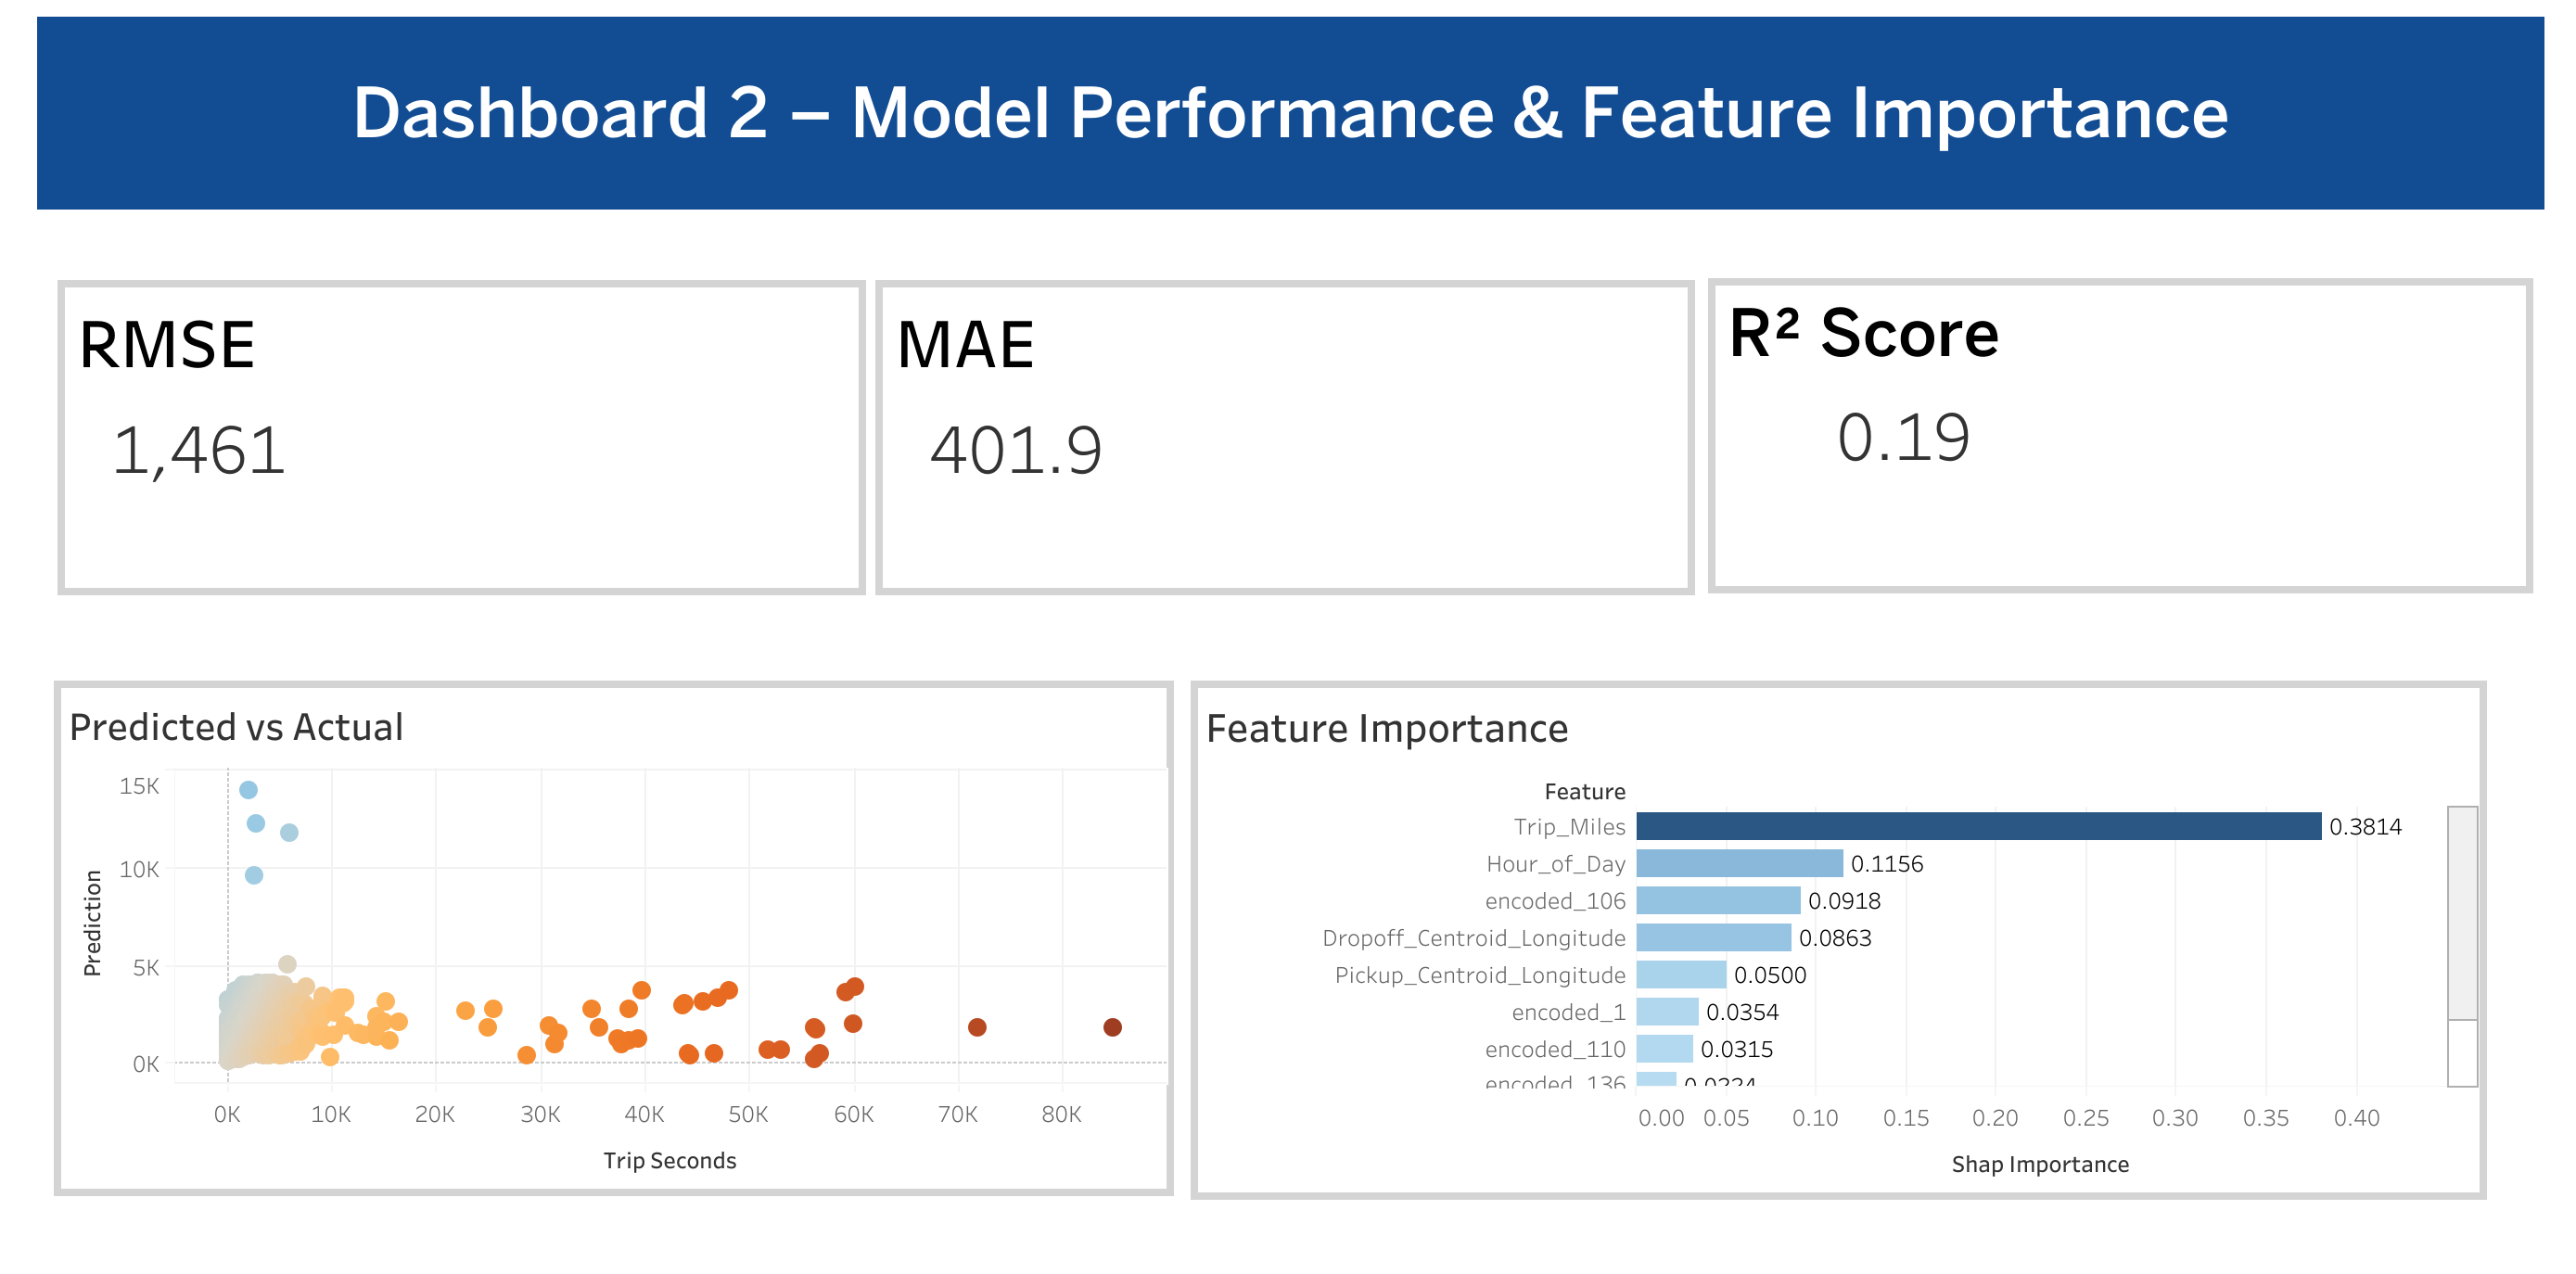

Layout of this report page (visuals, bound fields, positions):
{"tool":"tableau","page":{"name":"Dashboard 2","canvas":[1000,1000],"units":"permille","ordinal":1},"visuals":[{"type":"text","box":[14.7,12.4,972.3,152.2]},{"type":"text","box":[665.6,223.1,314.1,66.2]},{"type":"text","box":[25.2,224.4,307.6,74.2]},{"type":"text","box":[342.6,224.4,311.6,74.2]},{"type":"worksheet","title":"D2 - R² KPI","mark":"Text","box":[665.6,289.4,314.1,75.5]},{"type":"worksheet","title":"D2 - RMSE KPI","mark":"Text","box":[25.2,298.5,307.6,75.5]},{"type":"worksheet","title":"D2 - MAE KPI ","mark":"Text","box":[342.6,298.5,311.6,75.5]},{"type":"worksheet","title":"D2 - Pred vs Actual","mark":"Circle","rows":["prediction"],"cols":["Trip_Seconds"],"box":[21.2,533.4,434.5,403.5]},{"type":"worksheet","title":"D2 - Feature Importance","mark":"Bar","rows":["feature"],"cols":["shap_importance"],"box":[462.2,533.4,502.9,407.2]}]}

Visuals, with their boxes on the dashboard's canvas, which has no fixed pixel size, in thousandths of its width and height (x1, y1, x2, y2). These are canvas units, not pixel positions in the 2576x1274 screenshot, which may show the page scaled, cropped or inside an application window:
text: (left=15, top=12, right=987, bottom=165)
text: (left=666, top=223, right=980, bottom=289)
text: (left=25, top=224, right=333, bottom=299)
text: (left=343, top=224, right=654, bottom=299)
"D2 - R² KPI" worksheet (Text marks): (left=666, top=289, right=980, bottom=365)
"D2 - RMSE KPI" worksheet (Text marks): (left=25, top=298, right=333, bottom=374)
"D2 - MAE KPI " worksheet (Text marks): (left=343, top=298, right=654, bottom=374)
"D2 - Pred vs Actual" worksheet (Circle marks): (left=21, top=533, right=456, bottom=937)
"D2 - Feature Importance" worksheet (Bar marks): (left=462, top=533, right=965, bottom=941)
